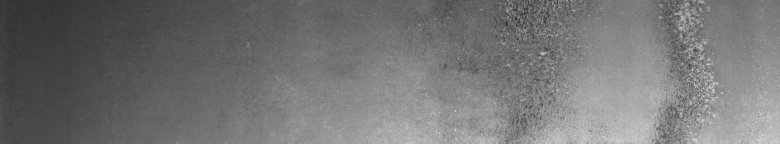hc: (500, 4, 549, 58)
